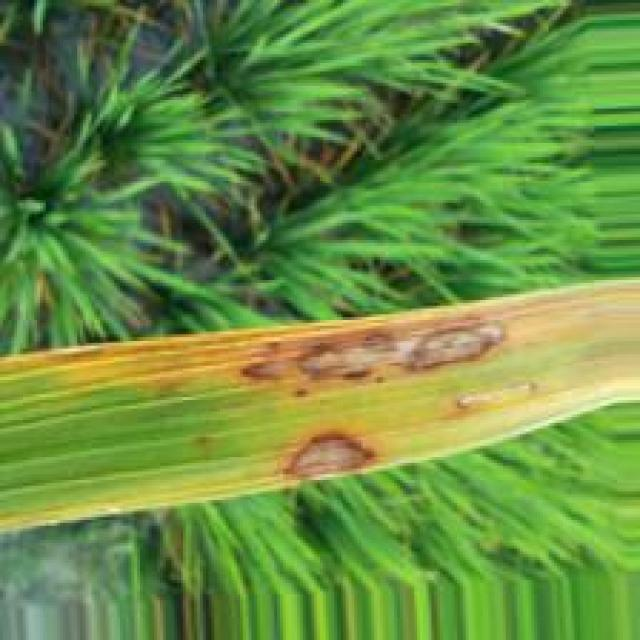Leaf_Blast: (232, 318, 513, 389), (279, 423, 391, 486)
